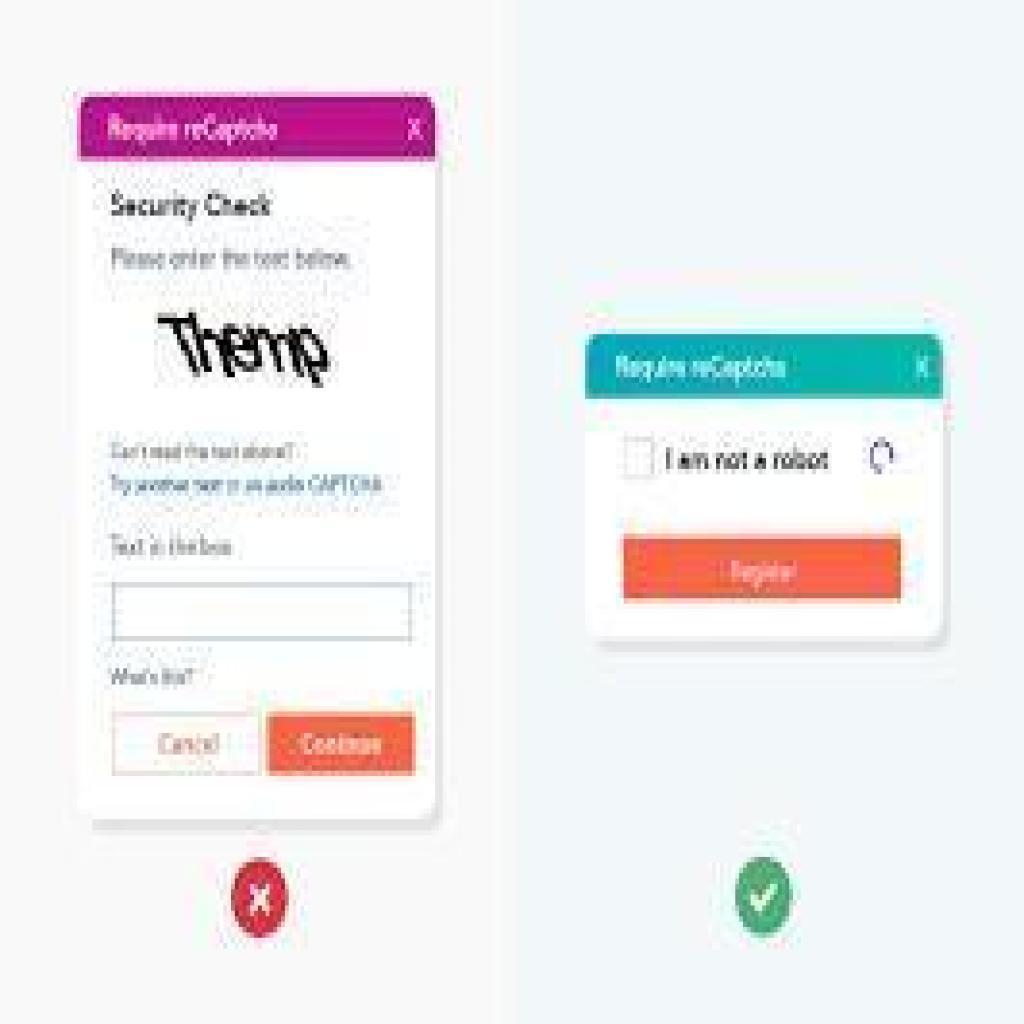button: (620, 534, 904, 604), (266, 711, 416, 776), (115, 711, 262, 771)
checkbox: (620, 437, 658, 485)
input: (115, 582, 412, 641)
label: (112, 242, 350, 275), (662, 442, 832, 474), (108, 189, 273, 221), (108, 436, 292, 464), (108, 528, 238, 561), (112, 663, 196, 690)
